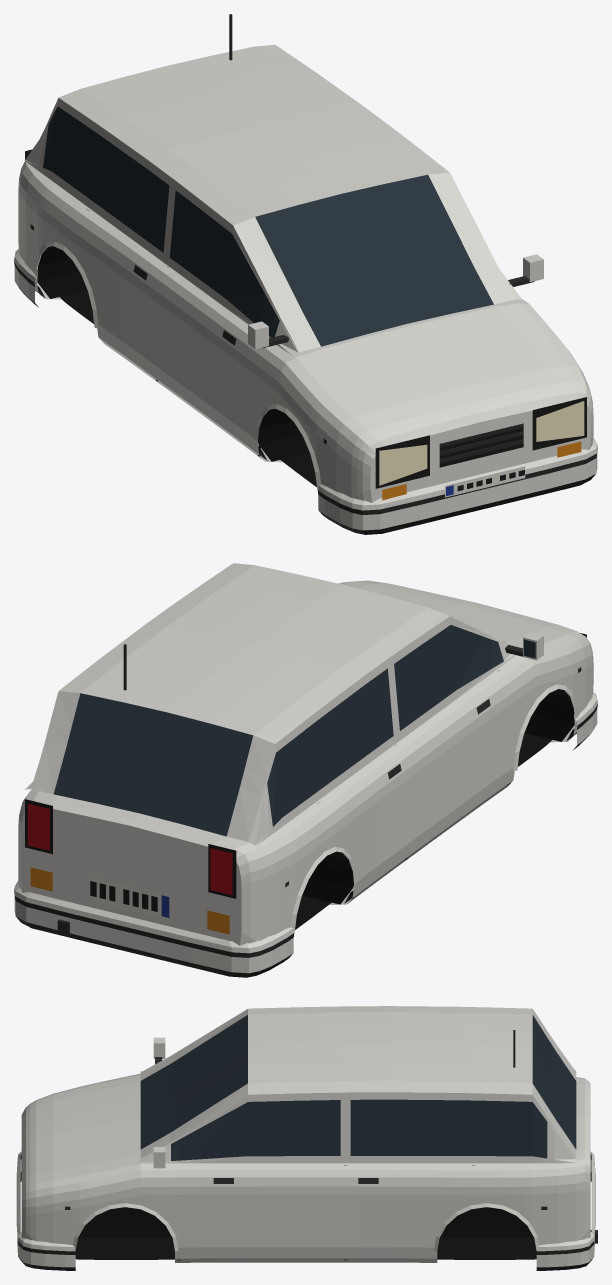
Rendered from ford-fiesta.glb.
3 views of the same model, one above another, from view 1: azimuth 30°, elevation 25°; view 2: azimuth 150°, elevation 25°; view 3: azimuth 270°, elevation 25° (orthographic). The views are drawn at different scales.
Visible parts, largest first — view 1: LOD0, door_FR, door_RR; view 2: LOD0, door_FR, door_RR; view 3: LOD0, door_FL, door_RL.
Boxes of the visible parts, bbox=[...] form: LOD0: bbox=[14, 14, 597, 534]; door_FR: bbox=[154, 181, 275, 452]; door_RR: bbox=[73, 122, 169, 376]; LOD0: bbox=[14, 563, 597, 977]; door_FR: bbox=[393, 616, 512, 855]; door_RR: bbox=[311, 660, 408, 897]; LOD0: bbox=[16, 1006, 597, 1270]; door_FL: bbox=[179, 1092, 343, 1258]; door_RL: bbox=[347, 1092, 473, 1258].
Size of what is drawn, in the model's own units: 1.87 by 1.61 by 4.02.
